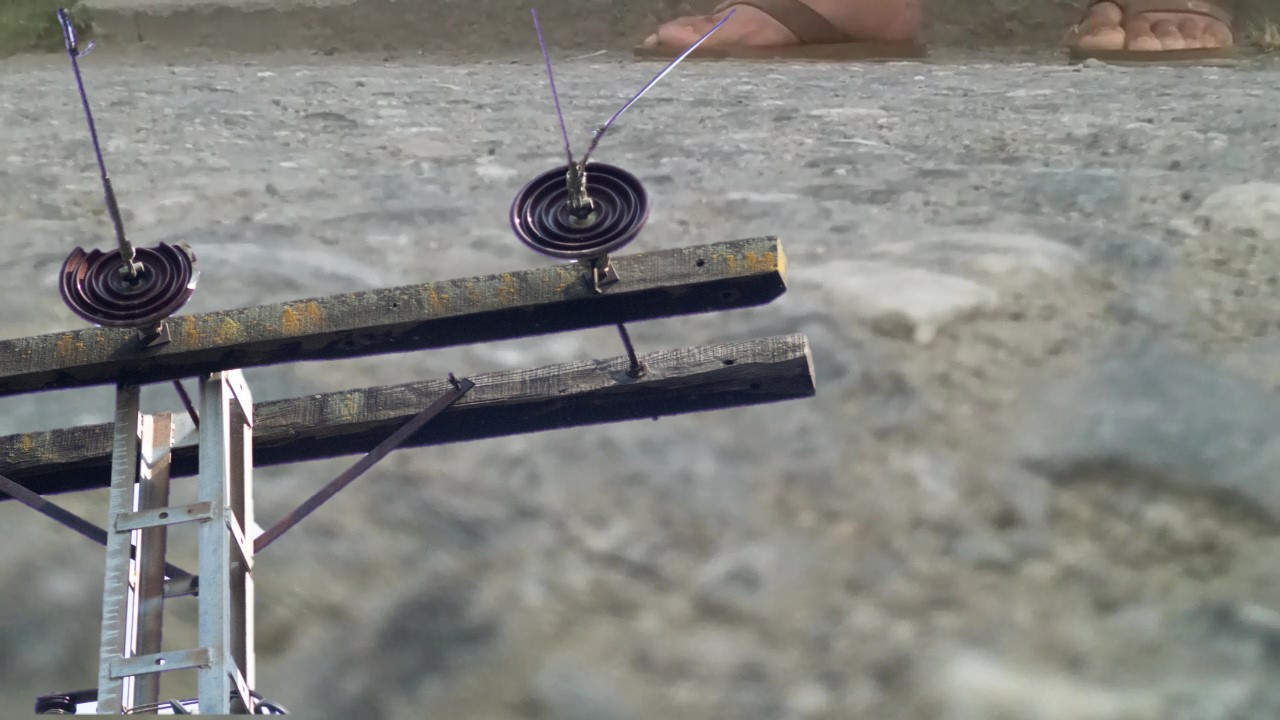defect_disc: (54, 235, 202, 336)
insulator_disc: (508, 158, 657, 259)
